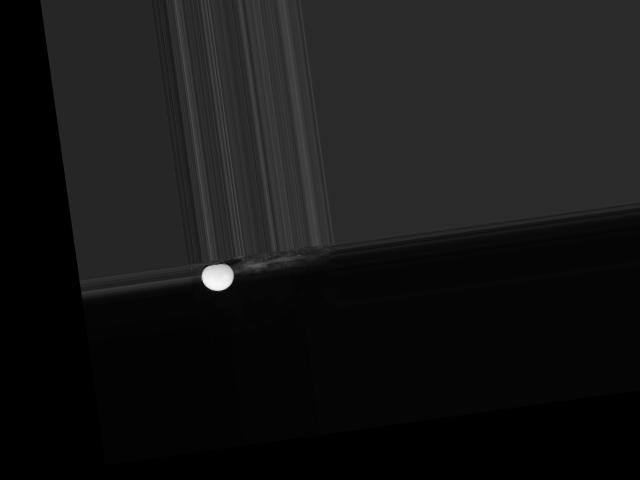egg: (200, 262, 236, 292)
